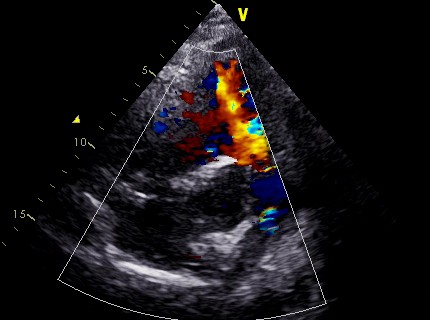PR: (223, 114, 287, 174)
